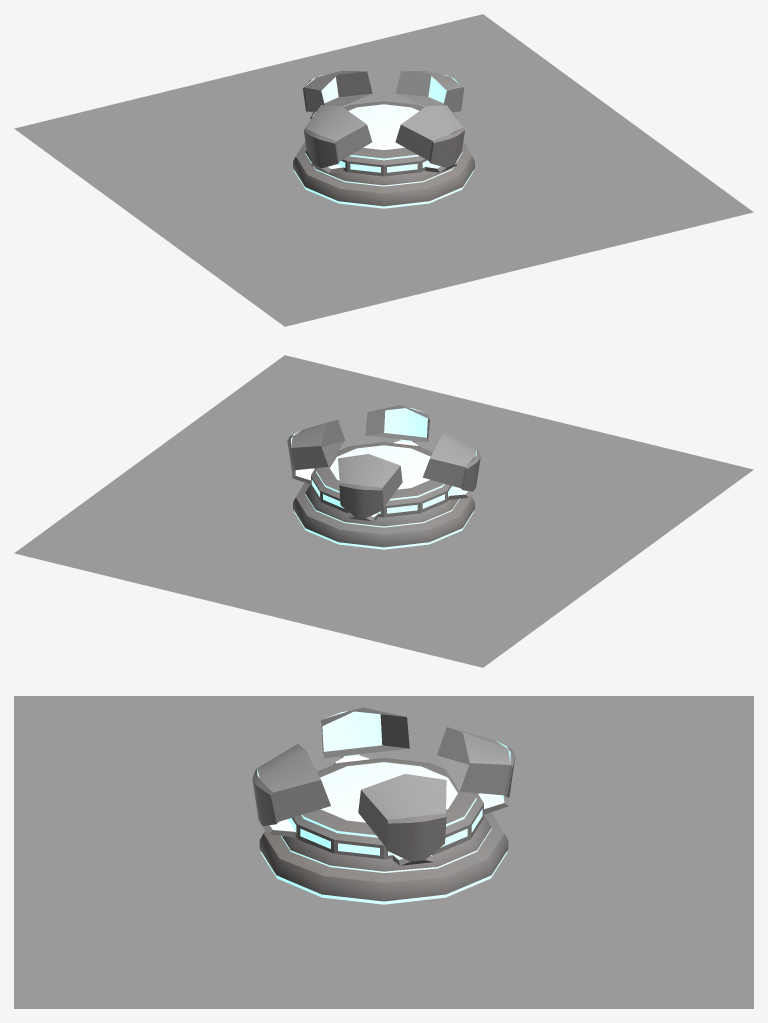
Rendered from SPW0110011.fbx.
The picture shows the model from 3 angles, top to bottom: view 1: azimuth 30°, elevation 25°; view 2: azimuth 150°, elevation 25°; view 3: azimuth 270°, elevation 25°; orthographic projection. The views are drawn at different scales.
Parts seen in each view (by area): view 1: smSPW0110011; view 2: smSPW0110011; view 3: smSPW0110011.
Part boxes in pixels (left/top/right/bottom): smSPW0110011: left=14, top=14, right=753, bottom=326; smSPW0110011: left=14, top=355, right=753, bottom=667; smSPW0110011: left=14, top=696, right=753, bottom=1008.
Bounding box in the file's own units: 497 × 86.07 × 497.
2 materials, 1 textured.
